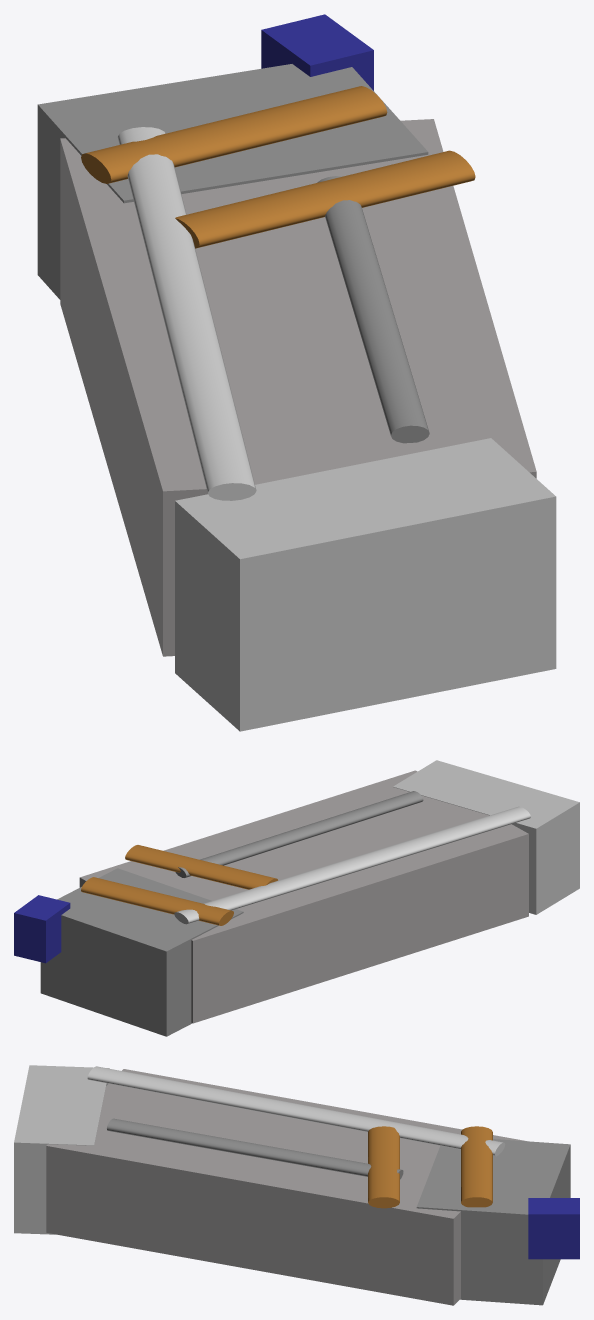
The model's file is CMU3DFieldRMCMagazinePistolPK7Cloud.glb.
The picture shows the model from 3 angles, top to bottom: view 1: azimuth 30°, elevation 25°; view 2: azimuth 150°, elevation 25°; view 3: azimuth 270°, elevation 25°; orthographic projection. The views are drawn at different scales.
Parts seen in each view (by area): view 1: silver slanted magazine shell, angled lower shoe, silver upper neck, left long bright rim, orange electrostatic identity band 14.8, orange electrostatic identity band 13.0, center shell stamped line, blue top indication; view 2: silver slanted magazine shell, silver upper neck, angled lower shoe, left long bright rim, center shell stamped line, blue top indication, orange electrostatic identity band 13.0, orange electrostatic identity band 14.8; view 3: silver slanted magazine shell, silver upper neck, angled lower shoe, left long bright rim, center shell stamped line, blue top indication, orange electrostatic identity band 14.8, orange electrostatic identity band 13.0.
Part boxes in pixels (<box>): silver slanted magazine shell: <box>60,119,536,656</box>; angled lower shoe: <box>175,438,556,731</box>; silver upper neck: <box>37,64,428,299</box>; left long bright rim: <box>117,127,256,500</box>; orange electrostatic identity band 14.8: <box>175,150,475,248</box>; orange electrostatic identity band 13.0: <box>81,86,387,183</box>; center shell stamped line: <box>317,176,429,443</box>; blue top indication: <box>261,14,373,90</box>; silver slanted magazine shell: <box>79,770,528,1023</box>; silver upper neck: <box>40,868,243,1036</box>; angled lower shoe: <box>393,760,579,914</box>; left long bright rim: <box>174,806,530,924</box>; center shell stamped line: <box>175,791,423,877</box>; blue top indication: <box>14,895,70,963</box>; orange electrostatic identity band 13.0: <box>81,877,233,925</box>; orange electrostatic identity band 14.8: <box>125,845,277,889</box>; silver slanted magazine shell: <box>46,1069,526,1305</box>; silver upper neck: <box>416,1139,570,1305</box>; angled lower shoe: <box>14,1065,109,1234</box>; left long bright rim: <box>87,1066,505,1156</box>; center shell stamped line: <box>107,1118,403,1179</box>; blue top indication: <box>528,1198,579,1259</box>; orange electrostatic identity band 14.8: <box>368,1126,399,1208</box>; orange electrostatic identity band 13.0: <box>461,1126,492,1207</box>.
Size of the model in its own units: 0.2239 by 0.0681 by 0.343.
